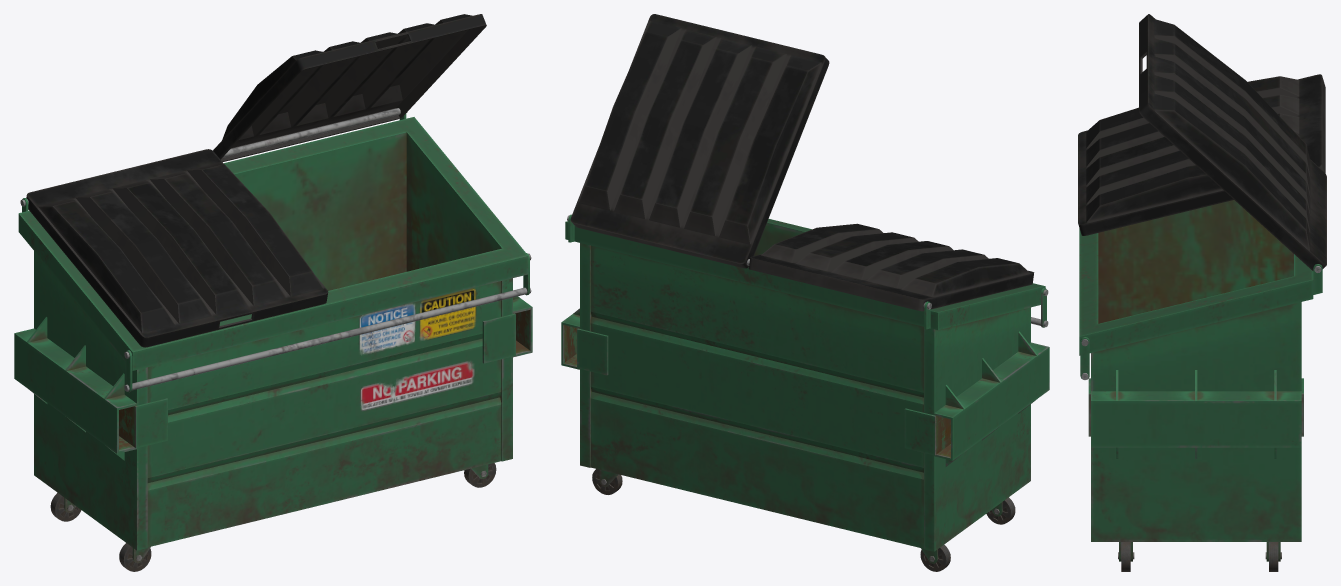
Rendered from dumpster.glb.
The picture shows the model from 3 angles, left to right: view 1: azimuth 30°, elevation 25°; view 2: azimuth 150°, elevation 25°; view 3: azimuth 270°, elevation 25°; orthographic projection. The views are drawn at different scales.
Visible parts, largest first — view 1: Base_02_Dumpster_02_0, Cap_03_Dumpster_02_0, Cap_04_Dumpster_02_0, Wheel_08_Dumpster_02_0; view 2: Base_02_Dumpster_02_0, Cap_04_Dumpster_02_0, Cap_03_Dumpster_02_0, Wheel_06_Dumpster_02_0, Wheel_07_Dumpster_02_0; view 3: Base_02_Dumpster_02_0, Cap_04_Dumpster_02_0, Cap_03_Dumpster_02_0, Wheel_06_Dumpster_02_0, Wheel_05_Dumpster_02_0.
Part boxes in pixels (x1,y1,x2,y2): Base_02_Dumpster_02_0: [14, 108, 532, 550]; Cap_03_Dumpster_02_0: [26, 149, 328, 347]; Cap_04_Dumpster_02_0: [213, 14, 486, 162]; Wheel_08_Dumpster_02_0: [119, 543, 151, 571]; Base_02_Dumpster_02_0: [561, 214, 1049, 551]; Cap_04_Dumpster_02_0: [570, 14, 829, 268]; Cap_03_Dumpster_02_0: [748, 223, 1034, 311]; Wheel_06_Dumpster_02_0: [592, 469, 622, 494]; Wheel_07_Dumpster_02_0: [920, 544, 950, 571]; Base_02_Dumpster_02_0: [1079, 200, 1322, 541]; Cap_04_Dumpster_02_0: [1139, 14, 1326, 270]; Cap_03_Dumpster_02_0: [1078, 74, 1325, 235]; Wheel_06_Dumpster_02_0: [1265, 542, 1281, 571]; Wheel_05_Dumpster_02_0: [1118, 542, 1134, 571].
Bounding box in the file's own units: 2.1 × 2.23 × 1.06.
Materials: 1 (1 with a texture image).
